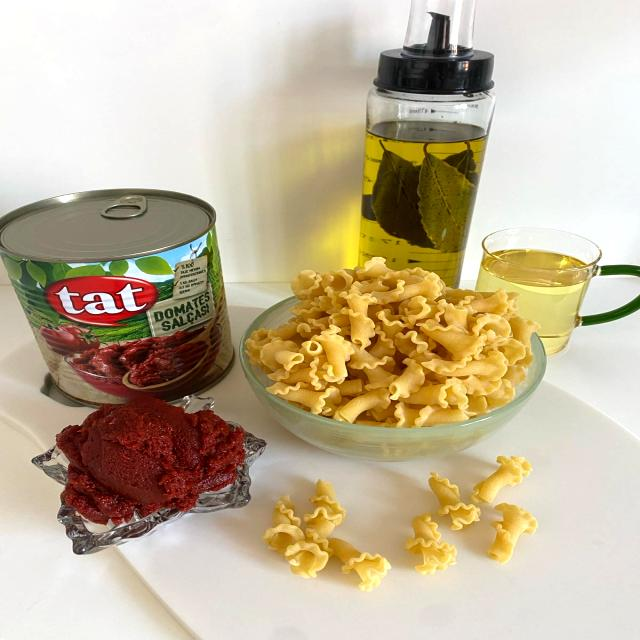olive oil: (353, 120, 467, 268), (488, 241, 612, 349)
tomato paste: (0, 195, 241, 394), (56, 396, 239, 520)
